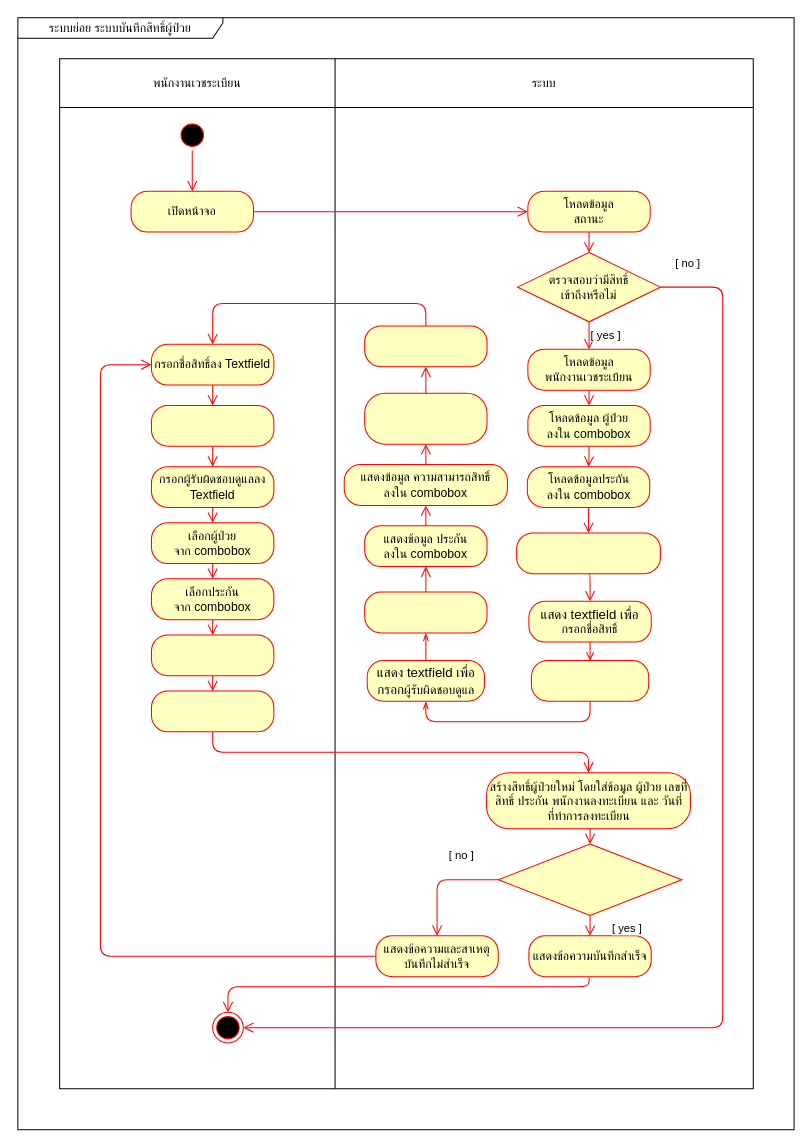
The diagram is 812 pixels wide and 1148 high, and some of its shapes have lost their labels. Each missing label, with the centre of its shape:
"กดบันทึก" belongs at (x=212, y=711).
"กรอกพื้นที่ที่ใช้สิทธิ์ลง Textfield" belongs at (x=212, y=425).
"ตรวจสอบว่ากรอก ข้อมูลถูกต้องหรือไม่" belongs at (x=589, y=879).
"เลือกความสามารถความสิทธิ์จาก combobox" belongs at (x=212, y=655).
"แสดง textfield เพื่อ กรอก พื้นที่ที่ใช้สิทธิ์" belongs at (x=589, y=680).
"แสดงข้อมูล ผู้ป่วย ลงใน combobox" belongs at (x=425, y=612).
"แสดงข้อมูล พนักงานเวชระเบียน ลงใน textbox" belongs at (x=425, y=418).
"แสดงหน้าจอ" belongs at (x=425, y=346).
"โหลดข้อมูลความสามารถสิทธิ์ลงใน combobox" belongs at (x=588, y=553).
